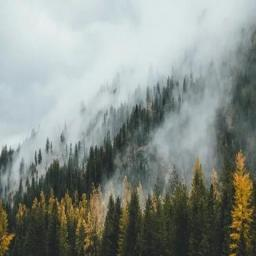Low smoke: (48, 84, 241, 209)
